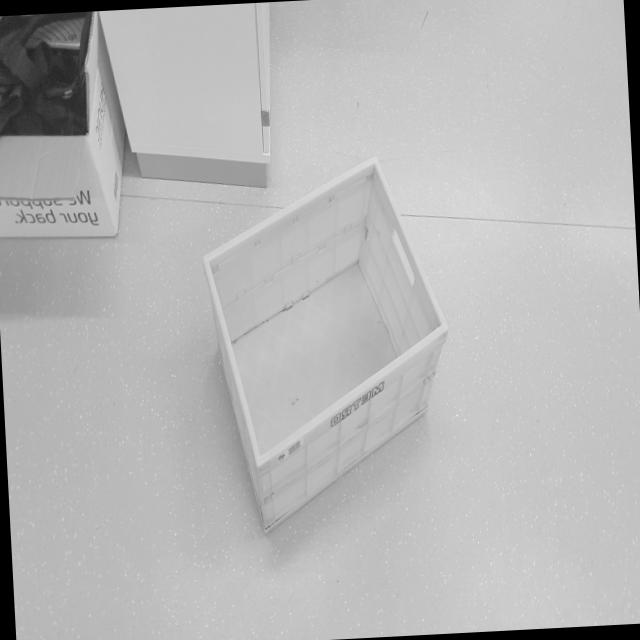box: (195, 146, 465, 564)
